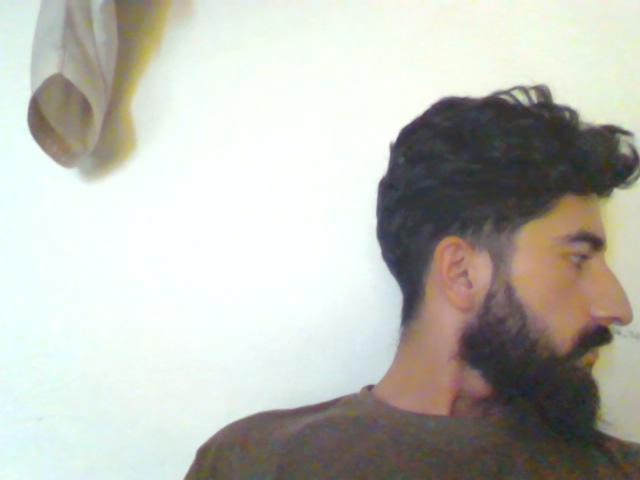hairnetless: (311, 71, 640, 275)
